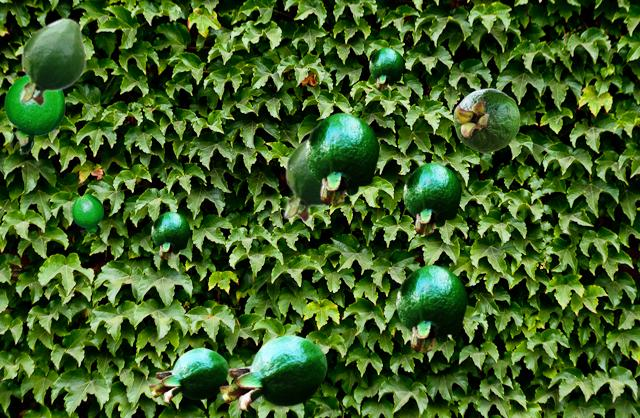guava: (219, 334, 326, 411), (305, 112, 379, 206), (396, 264, 467, 353), (19, 17, 85, 106), (283, 136, 345, 222), (4, 75, 64, 153), (149, 347, 227, 403), (403, 162, 461, 235), (453, 88, 519, 152), (151, 211, 189, 259), (369, 47, 403, 90), (72, 194, 102, 233)
